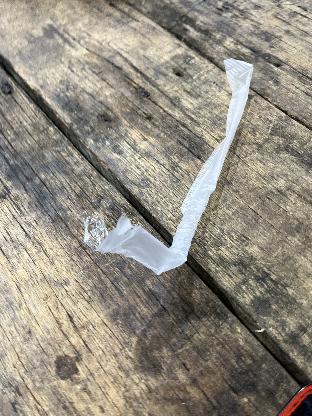Others: (113, 57, 259, 271), (84, 214, 108, 248)
